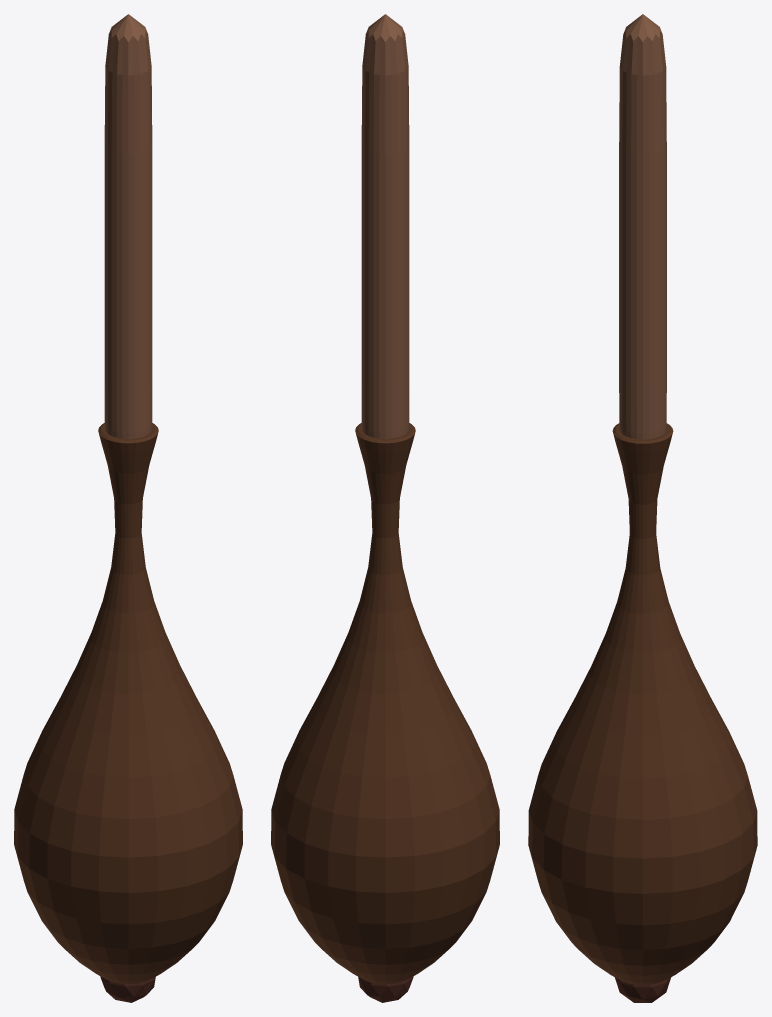
Rendered from Wand 910.glb.
The picture shows the model from 3 angles, left to right: view 1: azimuth 30°, elevation 25°; view 2: azimuth 150°, elevation 25°; view 3: azimuth 270°, elevation 25°; orthographic projection.
Parts seen in each view (by area): view 1: GeneratedWand; view 2: GeneratedWand; view 3: GeneratedWand.
Boxes of the visible parts, left/top/right/bottom form: GeneratedWand: left=14, top=14, right=242, bottom=1002; GeneratedWand: left=271, top=14, right=499, bottom=1002; GeneratedWand: left=528, top=14, right=757, bottom=1002.
Bounding box in the file's own units: 0.1026 × 0.4878 × 0.1026.
